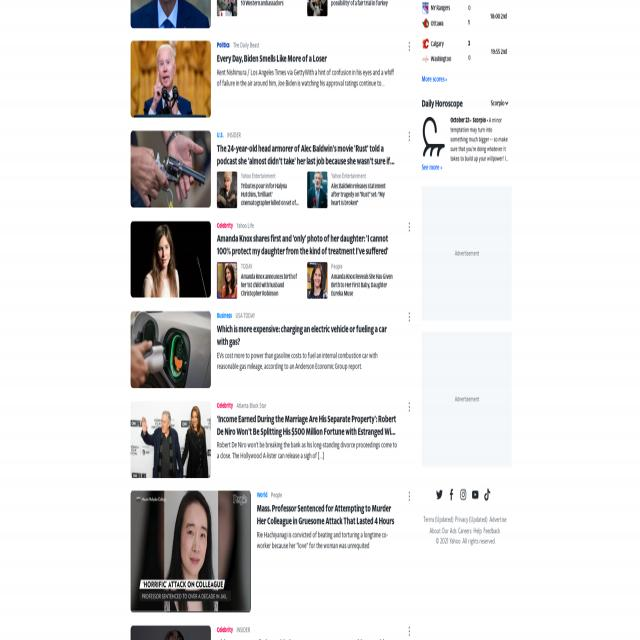button: (130, 492, 250, 612), (131, 311, 211, 388), (131, 401, 211, 478), (131, 131, 211, 207), (131, 221, 211, 297), (131, 41, 211, 117), (307, 262, 395, 299), (216, 172, 302, 208), (217, 262, 300, 299), (307, 172, 389, 208), (130, 0, 211, 28), (307, 0, 393, 19), (218, 0, 289, 22), (130, 625, 210, 640), (422, 115, 446, 158), (404, 398, 414, 420), (405, 307, 415, 325), (422, 17, 429, 30), (459, 488, 466, 501), (484, 488, 491, 501), (422, 2, 429, 15), (422, 38, 429, 50), (422, 53, 429, 65), (436, 488, 442, 501), (448, 488, 454, 501), (472, 488, 478, 501), (406, 130, 412, 142), (406, 221, 412, 232), (406, 41, 412, 52), (406, 491, 412, 502), (406, 626, 412, 636)
field: (484, 99, 510, 108)
